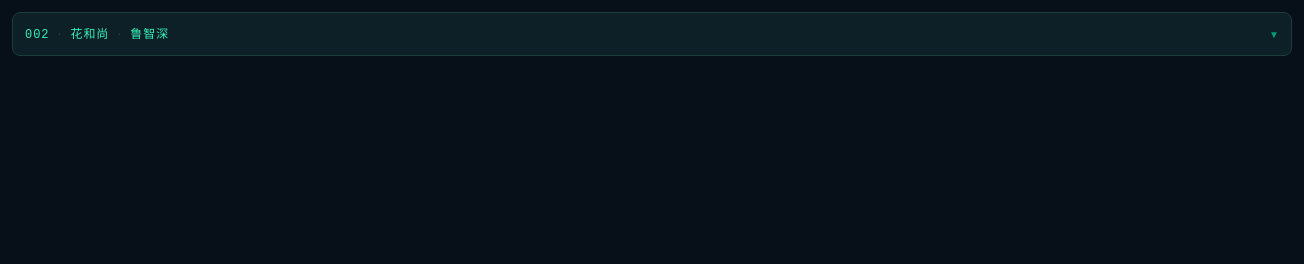
CharacterListbox keyboard interaction › 打开后聚焦搜索框，并可用方向键和回车选择
Click the button with aria-label "选择卡片": (90, 34) [12,12,1292,56]
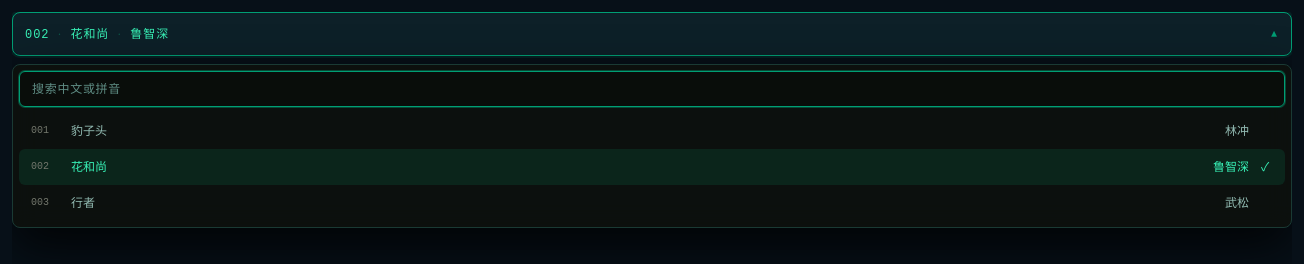
Press Arrowdown
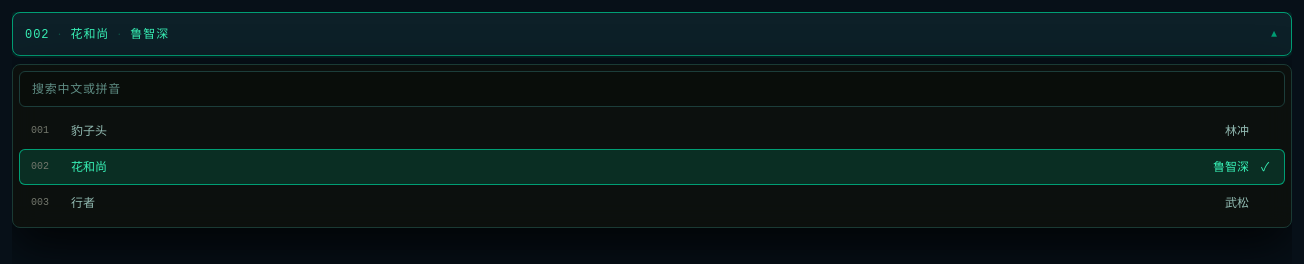
Press Arrowdown
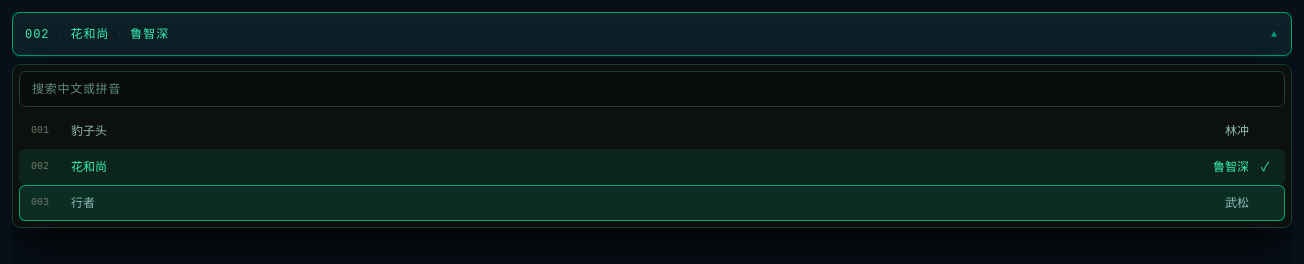
Press Enter
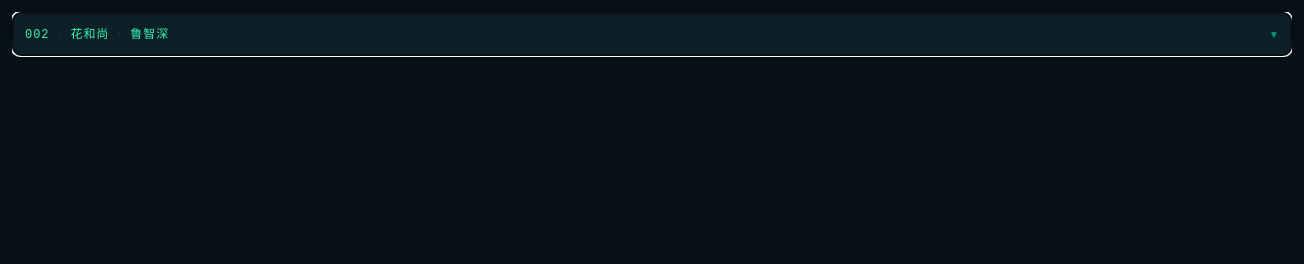
expect the list is gone: met
